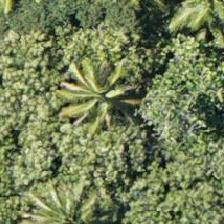coconut_tree: (30, 57, 120, 147)
